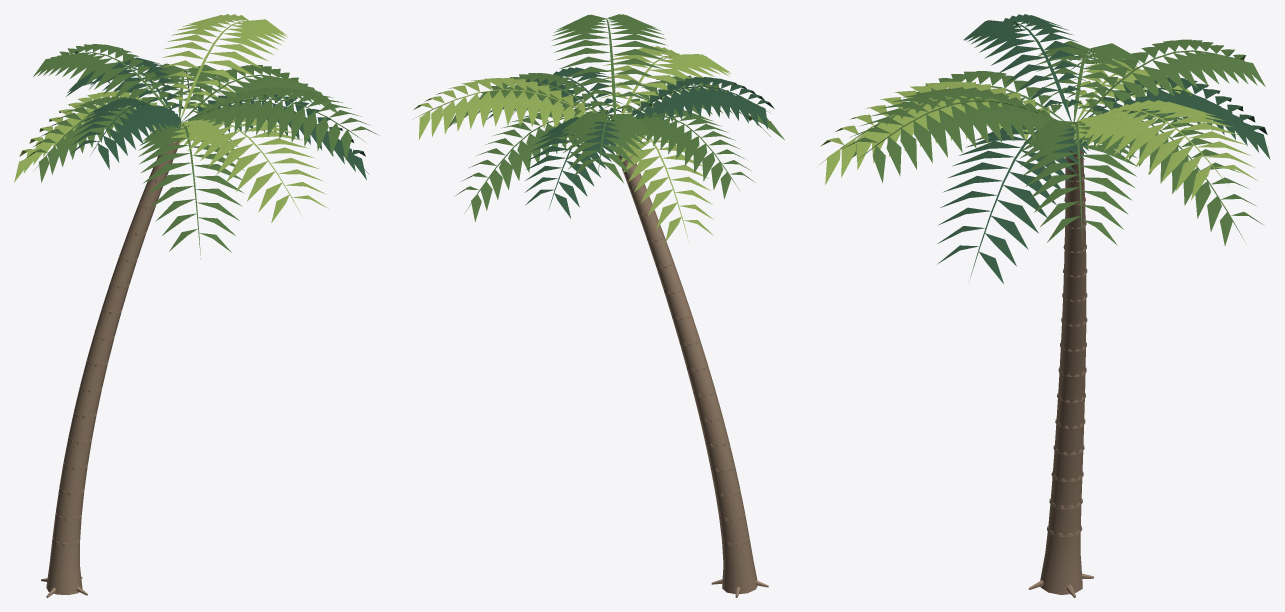
Rendered from tree_coastal_palm_b.glb.
3 renders of one model, left to right at view 1: azimuth 30°, elevation 25°; view 2: azimuth 150°, elevation 25°; view 3: azimuth 270°, elevation 25°, orthographic. The views are drawn at different scales.
Parts seen in each view (by area): view 1: tree_coastal_palm_b_LOD0; view 2: tree_coastal_palm_b_LOD0; view 3: tree_coastal_palm_b_LOD0.
Boxes of the visible parts, left/top/right/bottom form: tree_coastal_palm_b_LOD0: left=14, top=14, right=376, bottom=597; tree_coastal_palm_b_LOD0: left=412, top=14, right=784, bottom=597; tree_coastal_palm_b_LOD0: left=819, top=14, right=1270, bottom=597.
Size of what is drawn, in the model's own units: 6.69 by 10.16 by 7.16.
